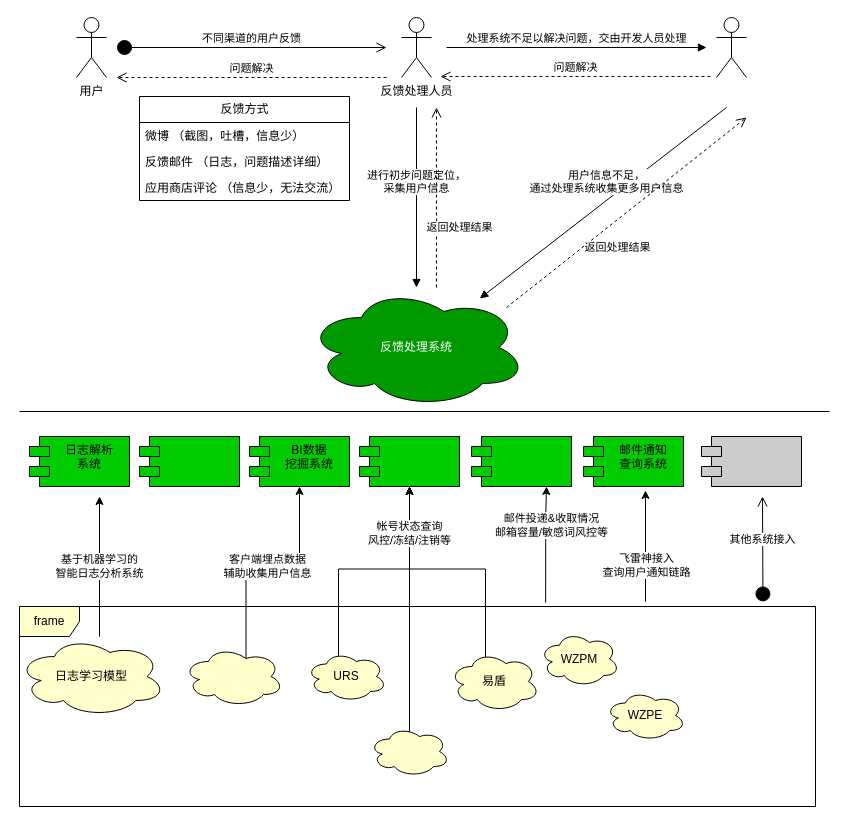
Image size: 847x824. Some labels were removed from this diagram. The centre of each missing label's shape, as x and y in pixels:
BI数据库: (233,676)
WZPA: (409,751)
其他用户帐号 状态查询系统: (751,461)
帐号状态 查询系统: (409,461)
开发维护人员: (731,47)
日志捞取 系统: (189,461)
邮件收发状态 查询系统: (521,461)
